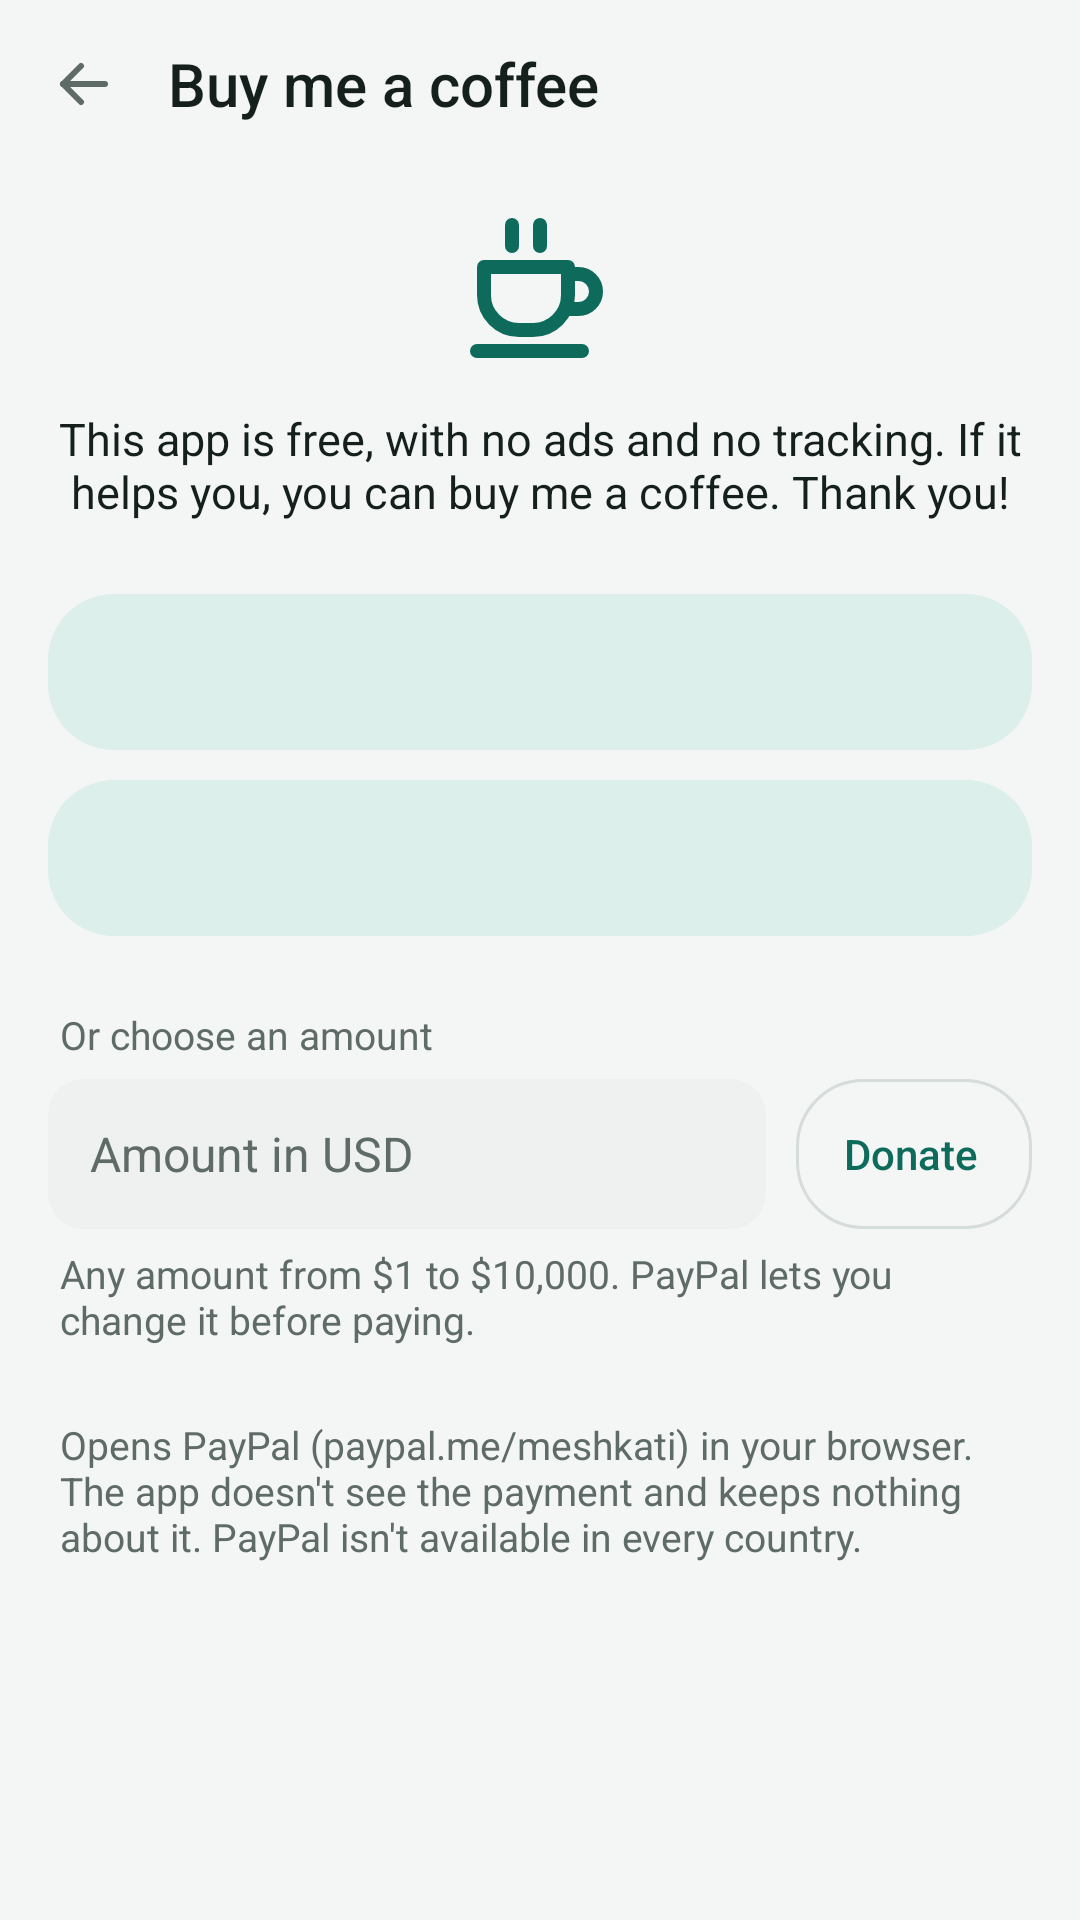

Icons on this 1080px x 1920px Android screen, each with the point to tap as [x,y]:
Back: [84,84]
